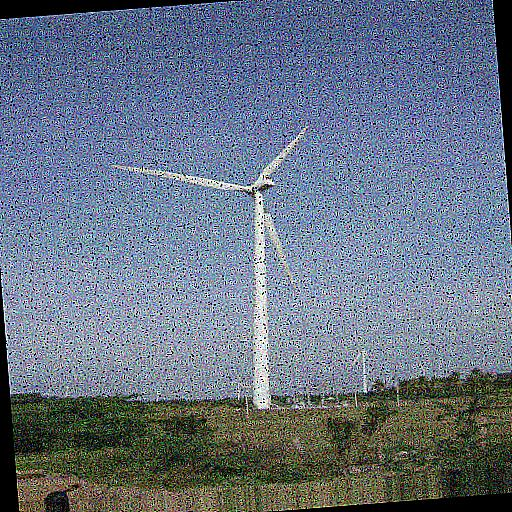wind turbine: (113, 127, 308, 412), (352, 341, 374, 394)
